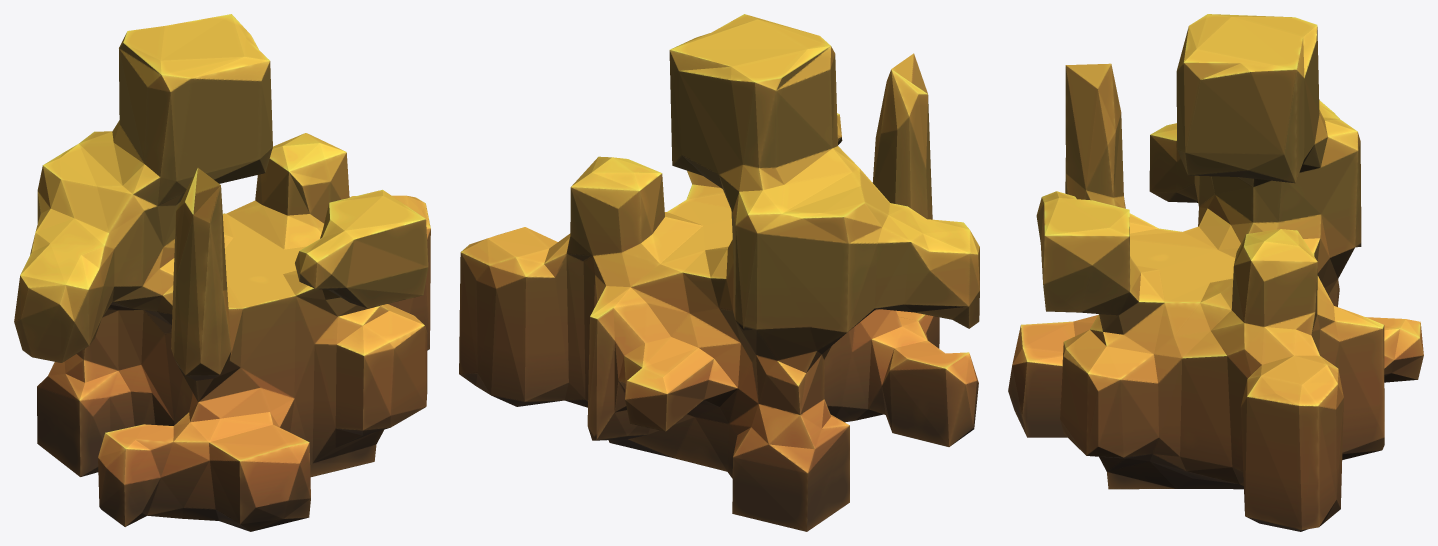
Rendered from low_poly_canyondesert_block.glb.
3 views of the same model, side by side, from view 1: azimuth 30°, elevation 25°; view 2: azimuth 150°, elevation 25°; view 3: azimuth 270°, elevation 25° (orthographic).
Visible parts, largest first — view 1: Cube.001; view 2: Cube.001; view 3: Cube.001.
Part boxes in pixels (left/top/right/bottom): Cube.001: left=14, top=14, right=430, bottom=531; Cube.001: left=459, top=14, right=979, bottom=531; Cube.001: left=1008, top=14, right=1423, bottom=531.
Size of the model in its own units: 1.04 by 0.9234 by 0.8174.
1 material, 1 textured.
